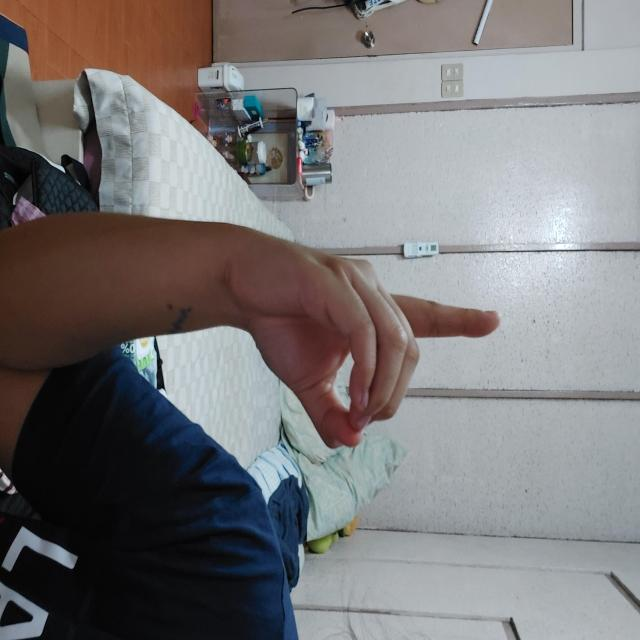D: (227, 139, 449, 412)
